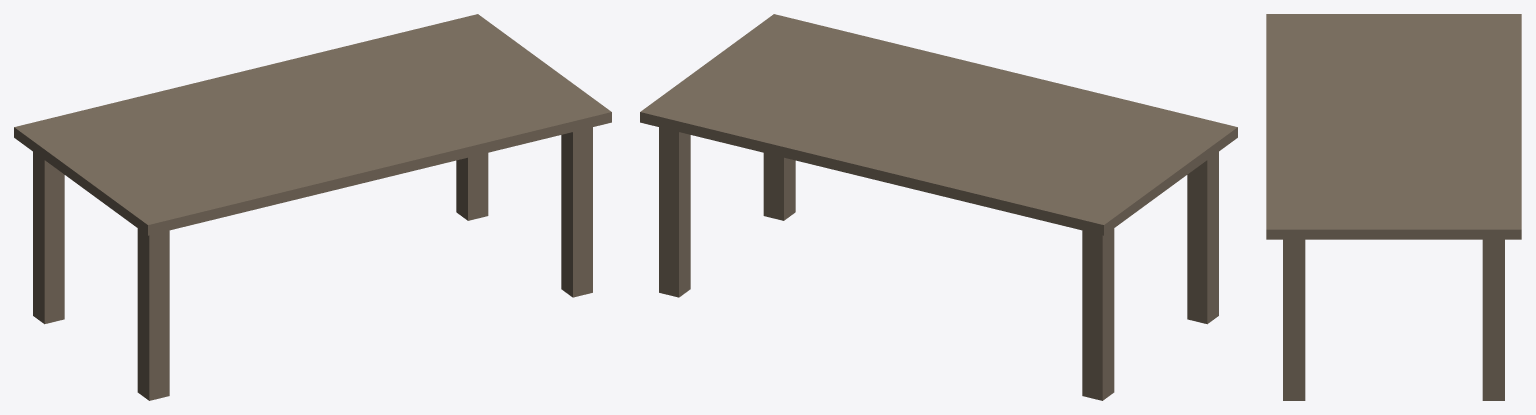
Rendered from desk.obj.
3 renders of one model, left to right at view 1: azimuth 30°, elevation 25°; view 2: azimuth 150°, elevation 25°; view 3: azimuth 270°, elevation 25°, orthographic. The views are drawn at different scales.
Size of the model in its own units: 92 by 35 by 46.
1 material, 1 textured.
